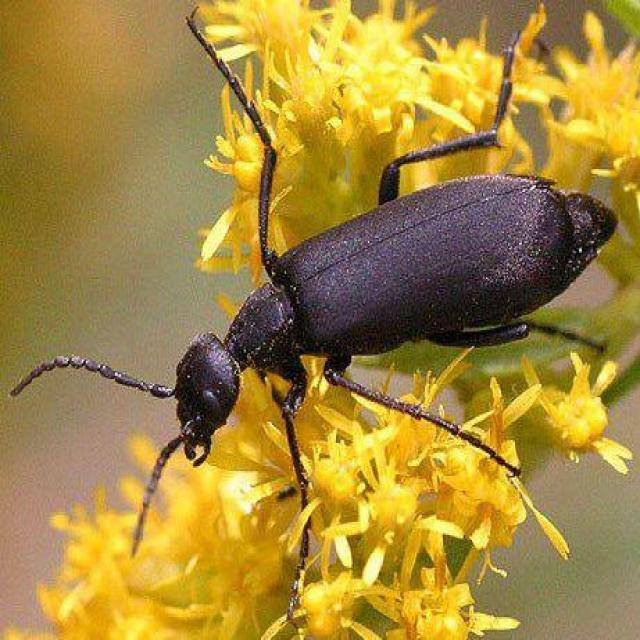BlisterBeetle-Adult-: (8, 5, 618, 576)
